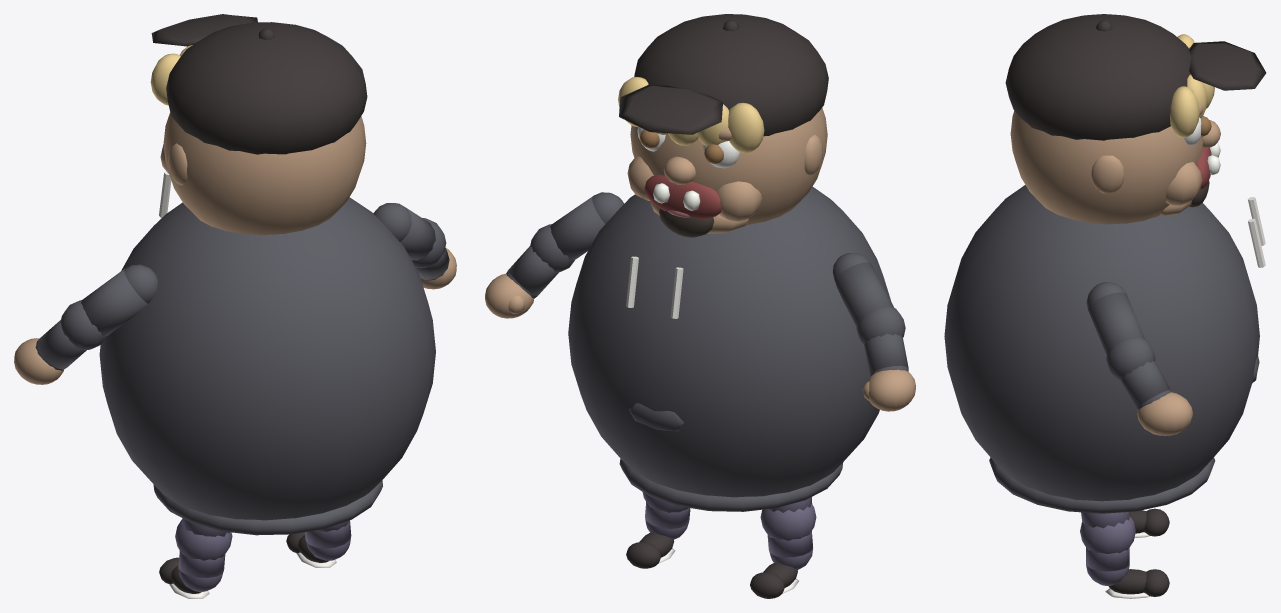
File: P1_Chunkz.fbx
3 views of the same model, side by side, from view 1: azimuth 30°, elevation 25°; view 2: azimuth 150°, elevation 25°; view 3: azimuth 270°, elevation 25° (orthographic). The views are drawn at different scales.
Parts seen in each view (by area): view 1: Torso, Head, ArmL, LegL, ArmR, LegR; view 2: Torso, Head, ArmL, ArmR, LegL, LegR; view 3: Torso, Head, ArmR, LegR, LegL.
Part boxes in pixels (x1=…): Torso: x1=99, y1=171, x2=435, y2=535; Head: x1=150, y1=14, x2=367, y2=234; ArmL: x1=14, y1=264, x2=157, y2=384; LegL: x1=159, y1=518, x2=232, y2=598; ArmR: x1=373, y1=203, x2=456, y2=289; LegR: x1=286, y1=520, x2=351, y2=567; Torso: x1=568, y1=186, x2=890, y2=511; Head: x1=618, y1=14, x2=828, y2=237; ArmL: x1=833, y1=253, x2=915, y2=411; ArmR: x1=485, y1=192, x2=624, y2=318; LegL: x1=750, y1=497, x2=816, y2=598; LegR: x1=626, y1=492, x2=690, y2=568; Torso: x1=944, y1=185, x2=1265, y2=513; Head: x1=1005, y1=14, x2=1266, y2=224; ArmR: x1=1086, y1=282, x2=1192, y2=435; LegR: x1=1080, y1=512, x2=1169, y2=598; LegL: x1=1130, y1=508, x2=1169, y2=537.
Bounding box in the file's own units: 171 × 210 × 112.
